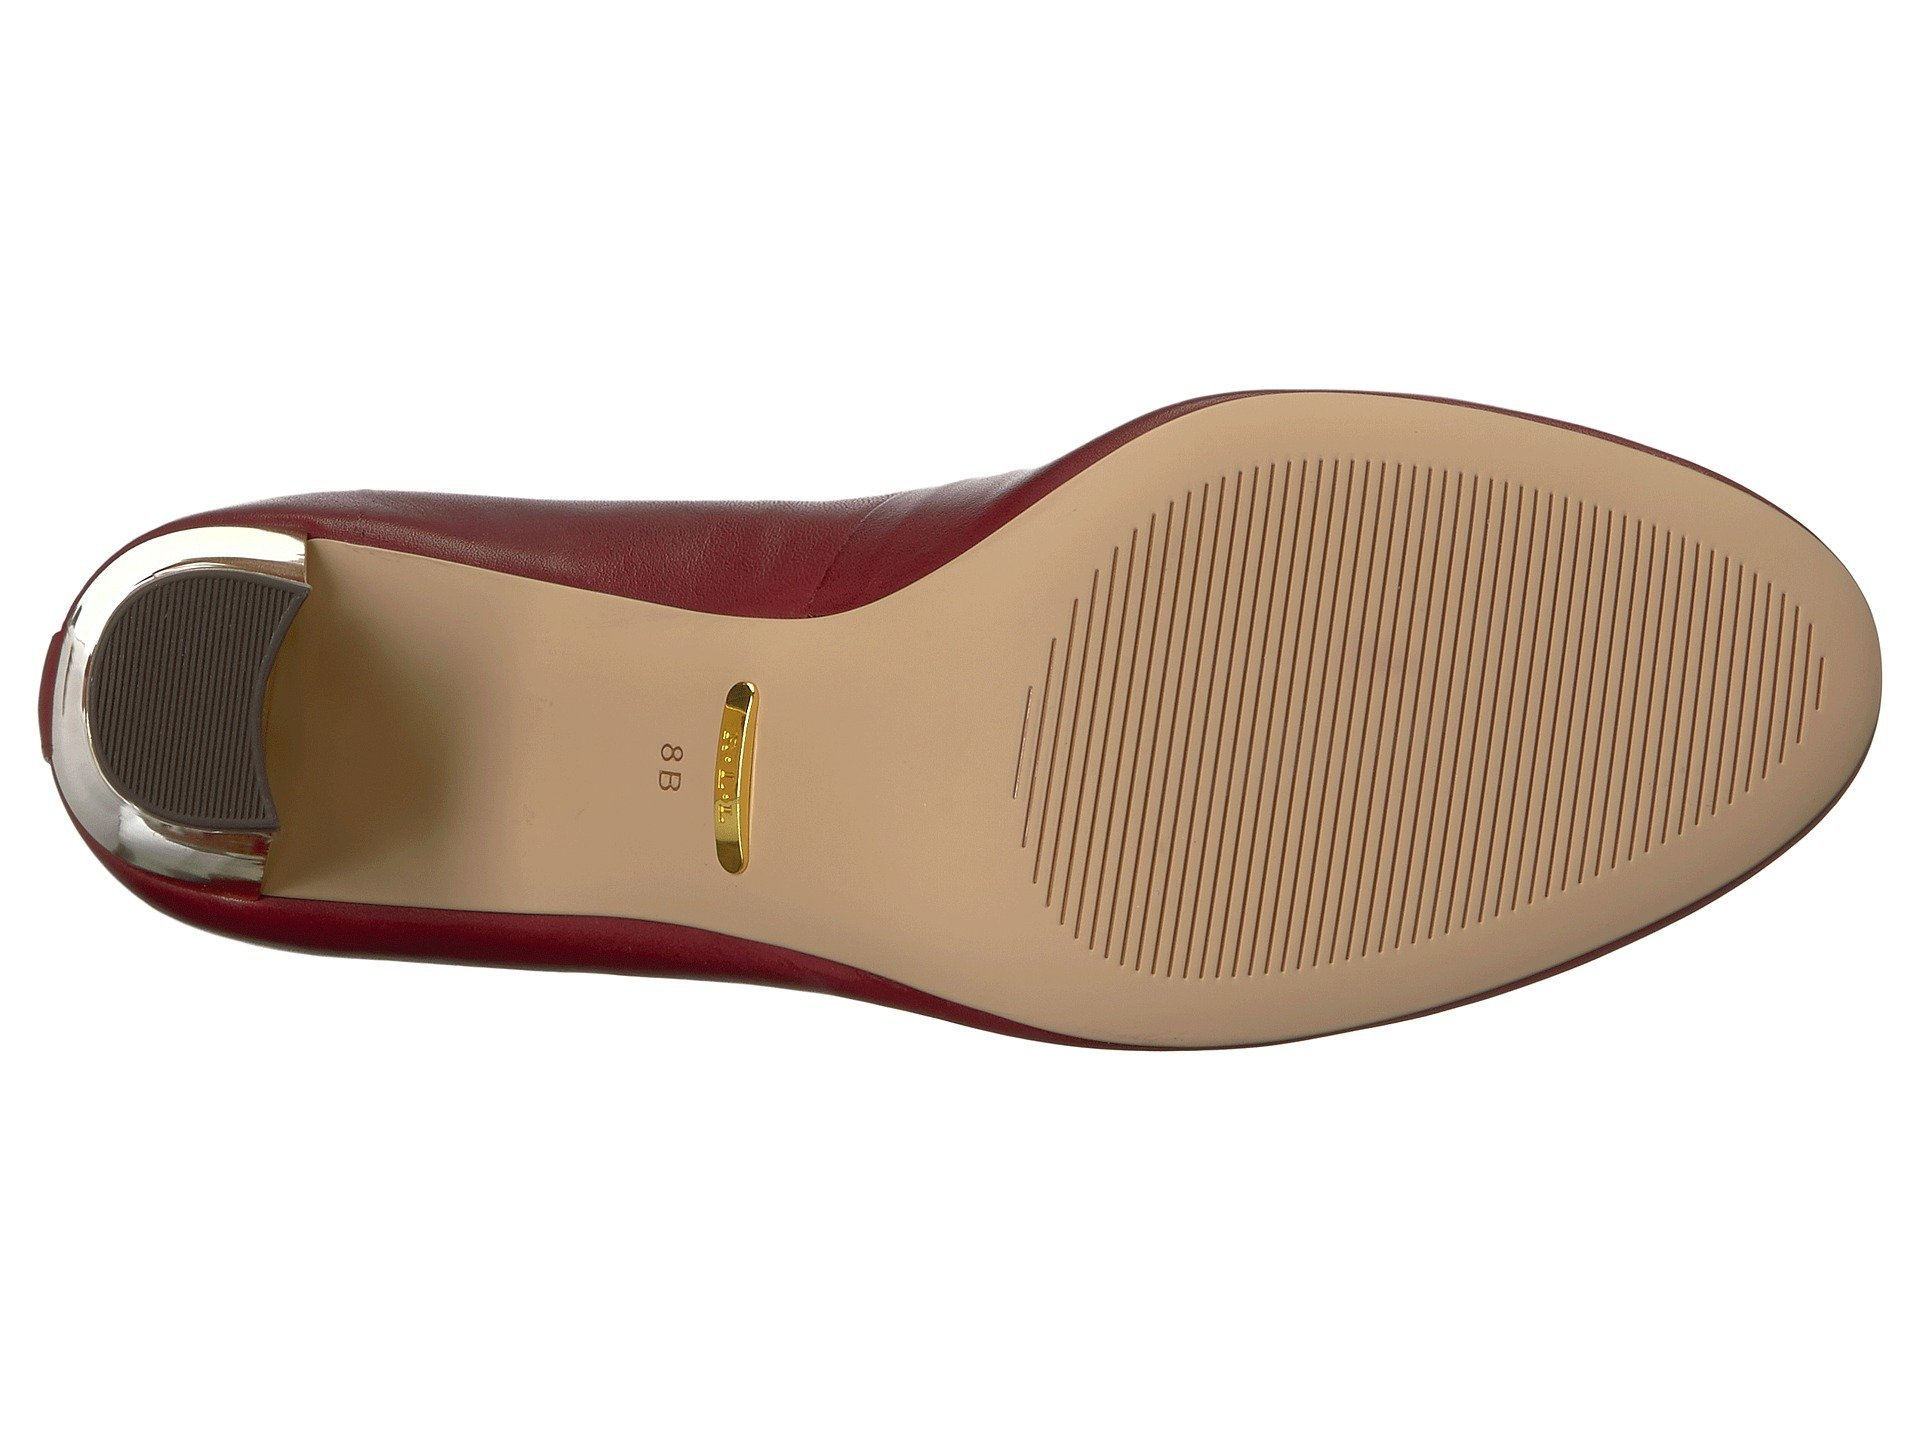line: (1187, 546, 1655, 856), (141, 626, 236, 765)
